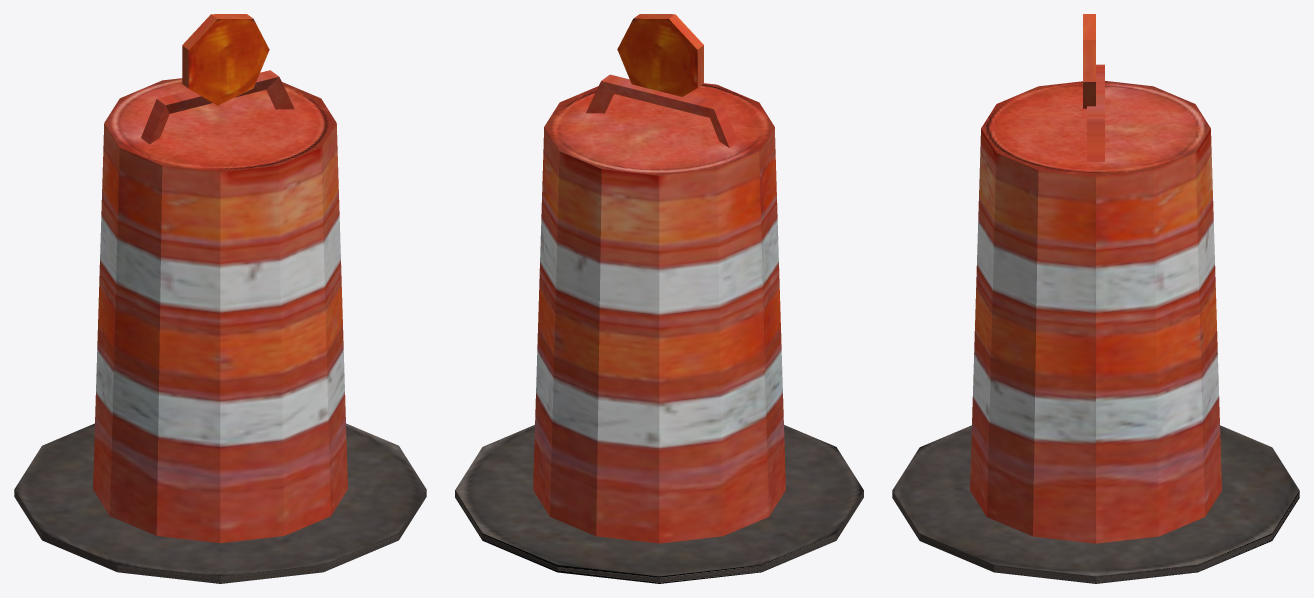
File: D_road_b_03.FBX
The picture shows the model from 3 angles, left to right: view 1: azimuth 30°, elevation 25°; view 2: azimuth 150°, elevation 25°; view 3: azimuth 270°, elevation 25°; orthographic projection.
Visible parts, largest first — view 1: D_road_b_03; view 2: D_road_b_03; view 3: D_road_b_03.
Part boxes in pixels (x1=…): D_road_b_03: x1=14, y1=14, x2=426, y2=583; D_road_b_03: x1=455, y1=14, x2=863, y2=583; D_road_b_03: x1=892, y1=14, x2=1299, y2=583.
Bounding box in the file's own units: 2.85 × 2.85 × 3.7.
